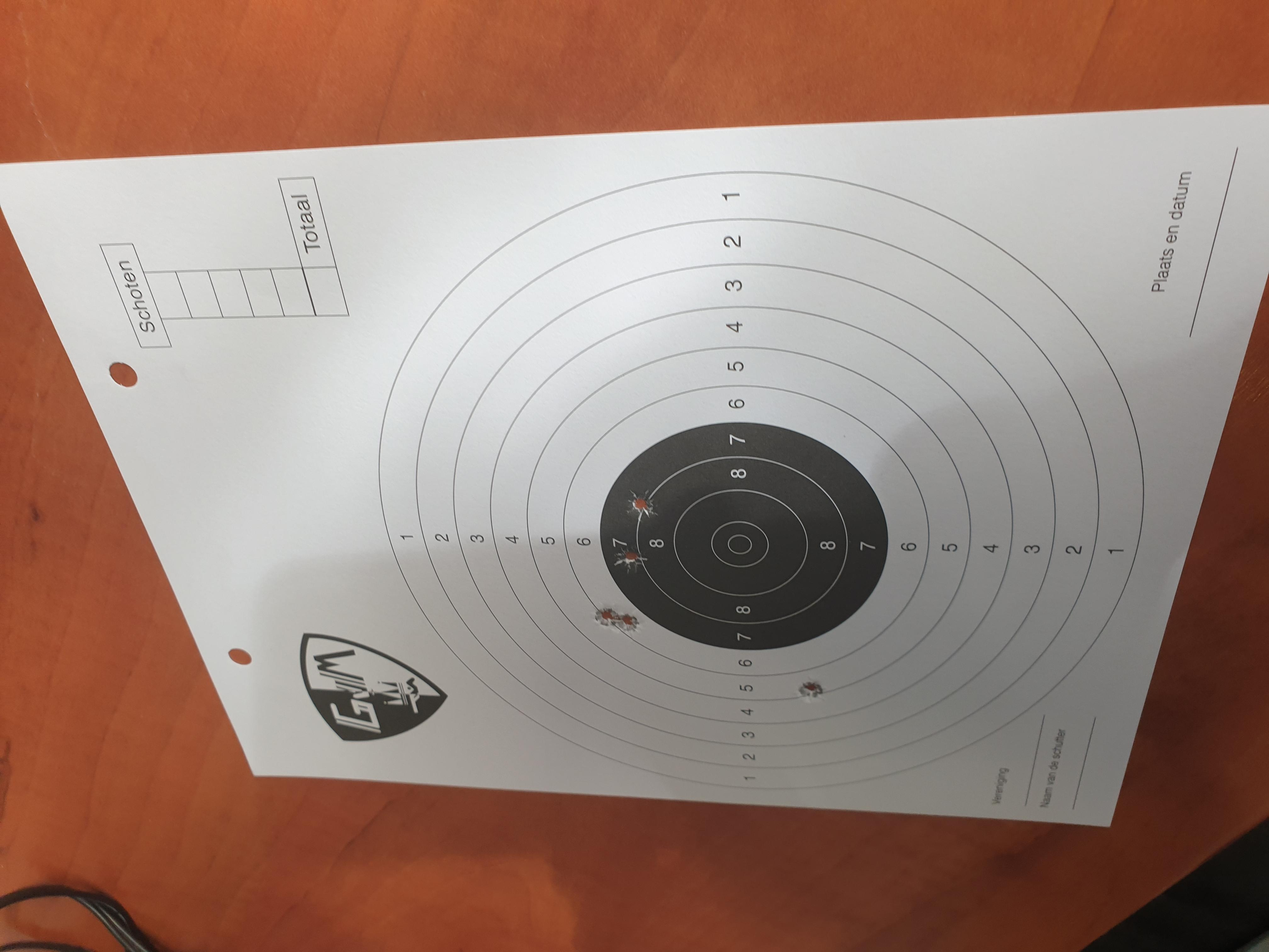hole: (570, 468, 619, 494), (329, 599, 367, 620), (506, 461, 539, 485), (433, 444, 463, 466), (426, 465, 449, 479)
